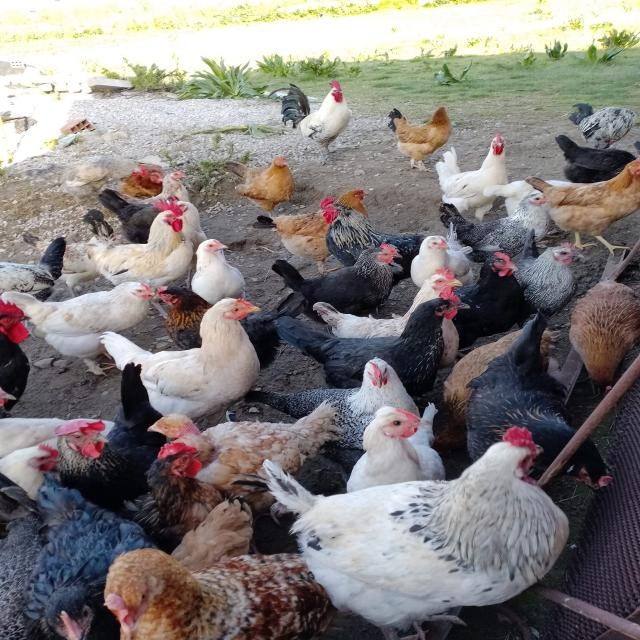Healthy: (270, 435, 574, 637), (103, 295, 270, 422), (82, 200, 192, 292), (278, 76, 361, 152), (382, 98, 455, 173)
